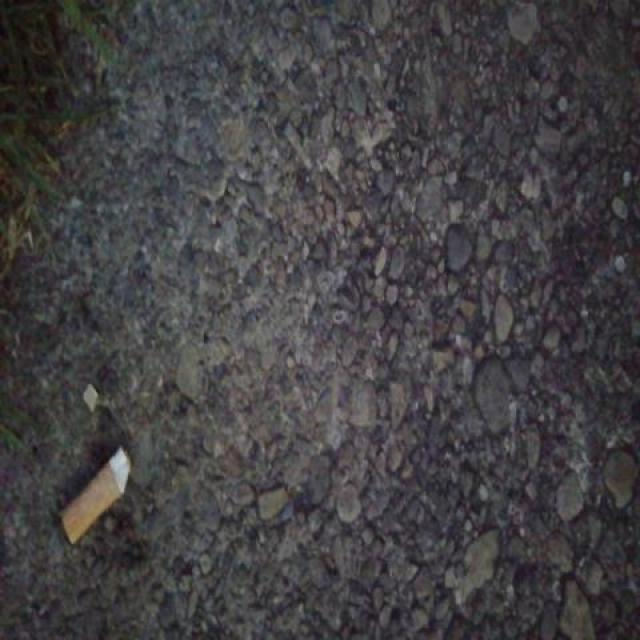non-organic waste: (54, 440, 134, 552)
